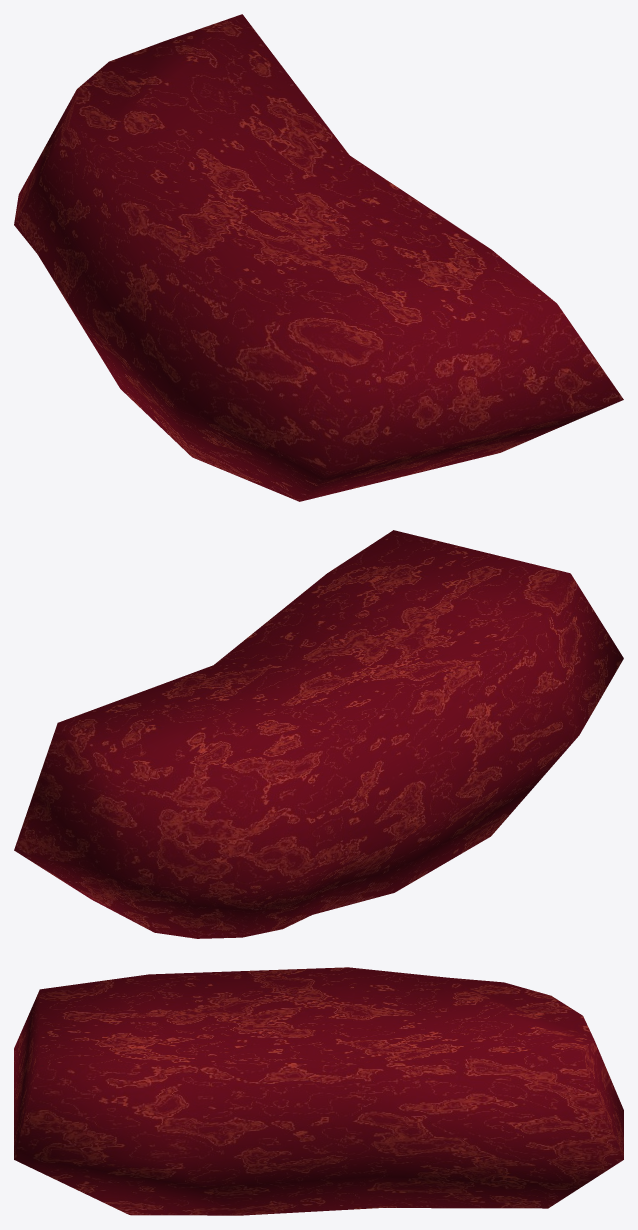
Rendered from laman loob 1.fbx.
3 renders of one model, top to bottom at view 1: azimuth 30°, elevation 25°; view 2: azimuth 150°, elevation 25°; view 3: azimuth 270°, elevation 25°, orthographic. The views are drawn at different scales.
Visible parts, largest first — view 1: laman loob 1; view 2: laman loob 1; view 3: laman loob 1.
Part boxes in pixels (bbox=[...]): laman loob 1: bbox=[14, 14, 623, 501]; laman loob 1: bbox=[14, 530, 623, 938]; laman loob 1: bbox=[14, 967, 623, 1215].
Bounding box in the file's own units: 24.19 × 7.59 × 12.57.
1 material, 1 textured.
